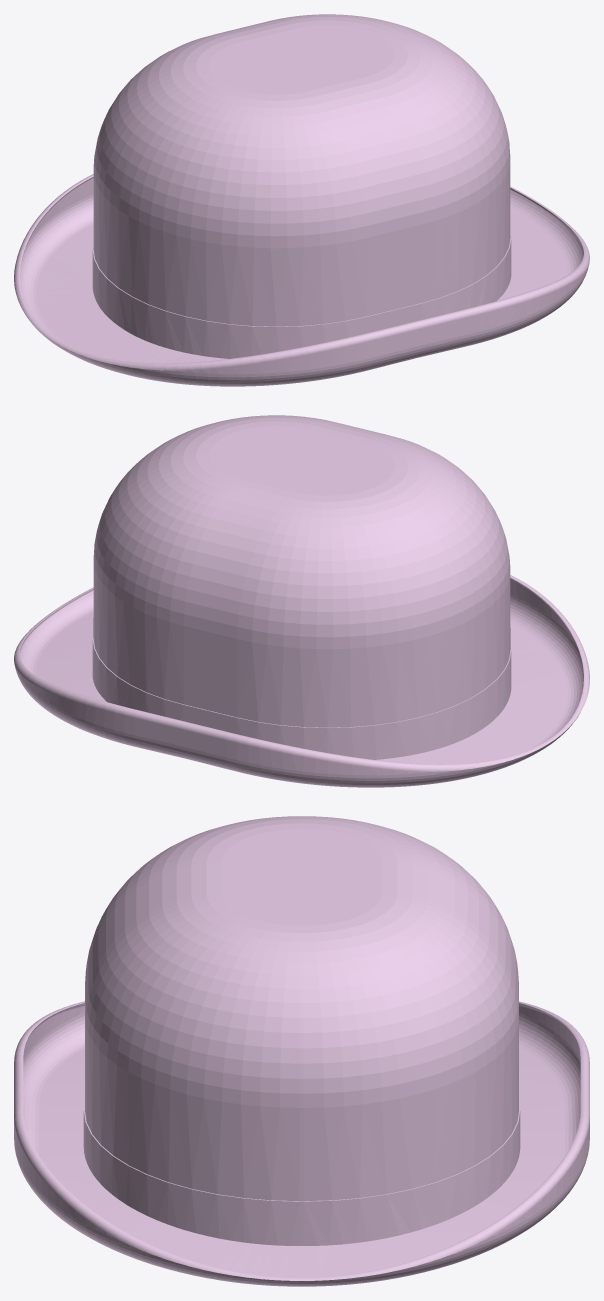
The model's file is red_bowler.dae.
The picture shows the model from 3 angles, top to bottom: view 1: azimuth 30°, elevation 25°; view 2: azimuth 150°, elevation 25°; view 3: azimuth 270°, elevation 25°; orthographic projection. The views are drawn at different scales.
Parts seen in each view (by area): view 1: Bowler; view 2: Bowler; view 3: Bowler.
Boxes of the visible parts, left/top/right/bottom form: Bowler: left=14, top=14, right=589, bottom=386; Bowler: left=14, top=415, right=589, bottom=787; Bowler: left=14, top=816, right=589, bottom=1286.
Bounding box in the file's own units: 0.3048 × 0.252 × 0.13.
